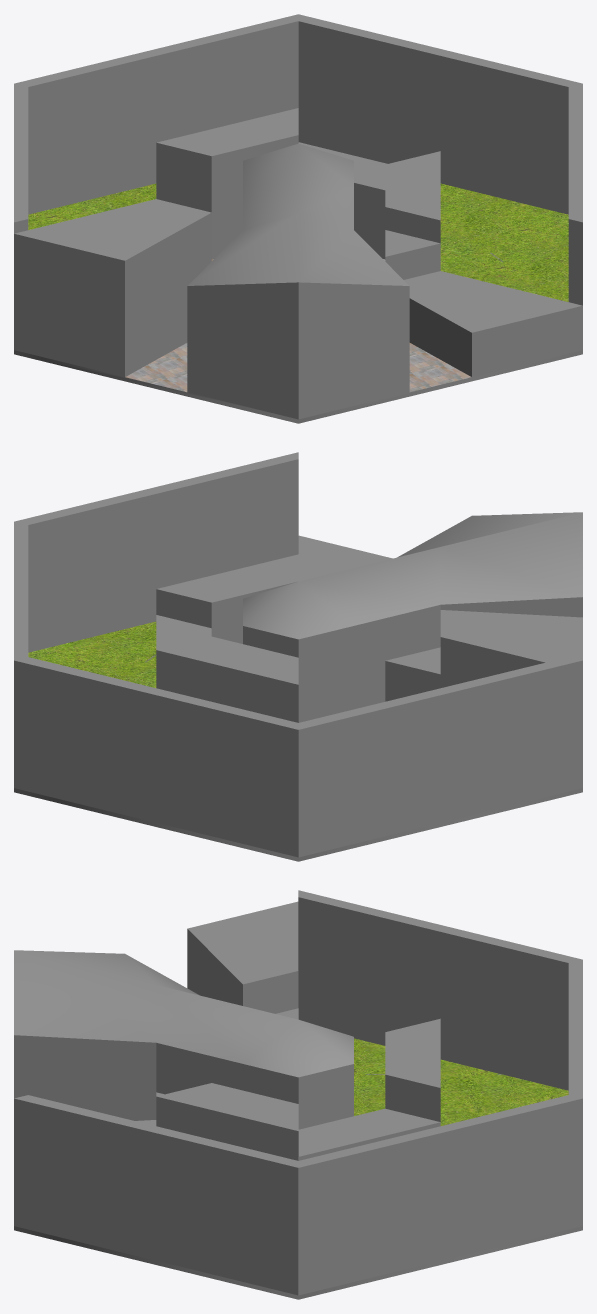
The picture shows the model from 3 angles, top to bottom: view 1: azimuth 30°, elevation 25°; view 2: azimuth 150°, elevation 25°; view 3: azimuth 270°, elevation 25°; orthographic projection.
Parts seen in each view (by area): view 1: Cylinder019; view 2: Cylinder019; view 3: Cylinder019.
Boxes of the visible parts, x1,y1,x2,y2 form: Cylinder019: (14, 14, 582, 423); Cylinder019: (14, 452, 582, 861); Cylinder019: (14, 890, 582, 1299).
Bounding box in the file's own units: 140 × 33.23 × 121.
Materials: 5 (2 with a texture image).
